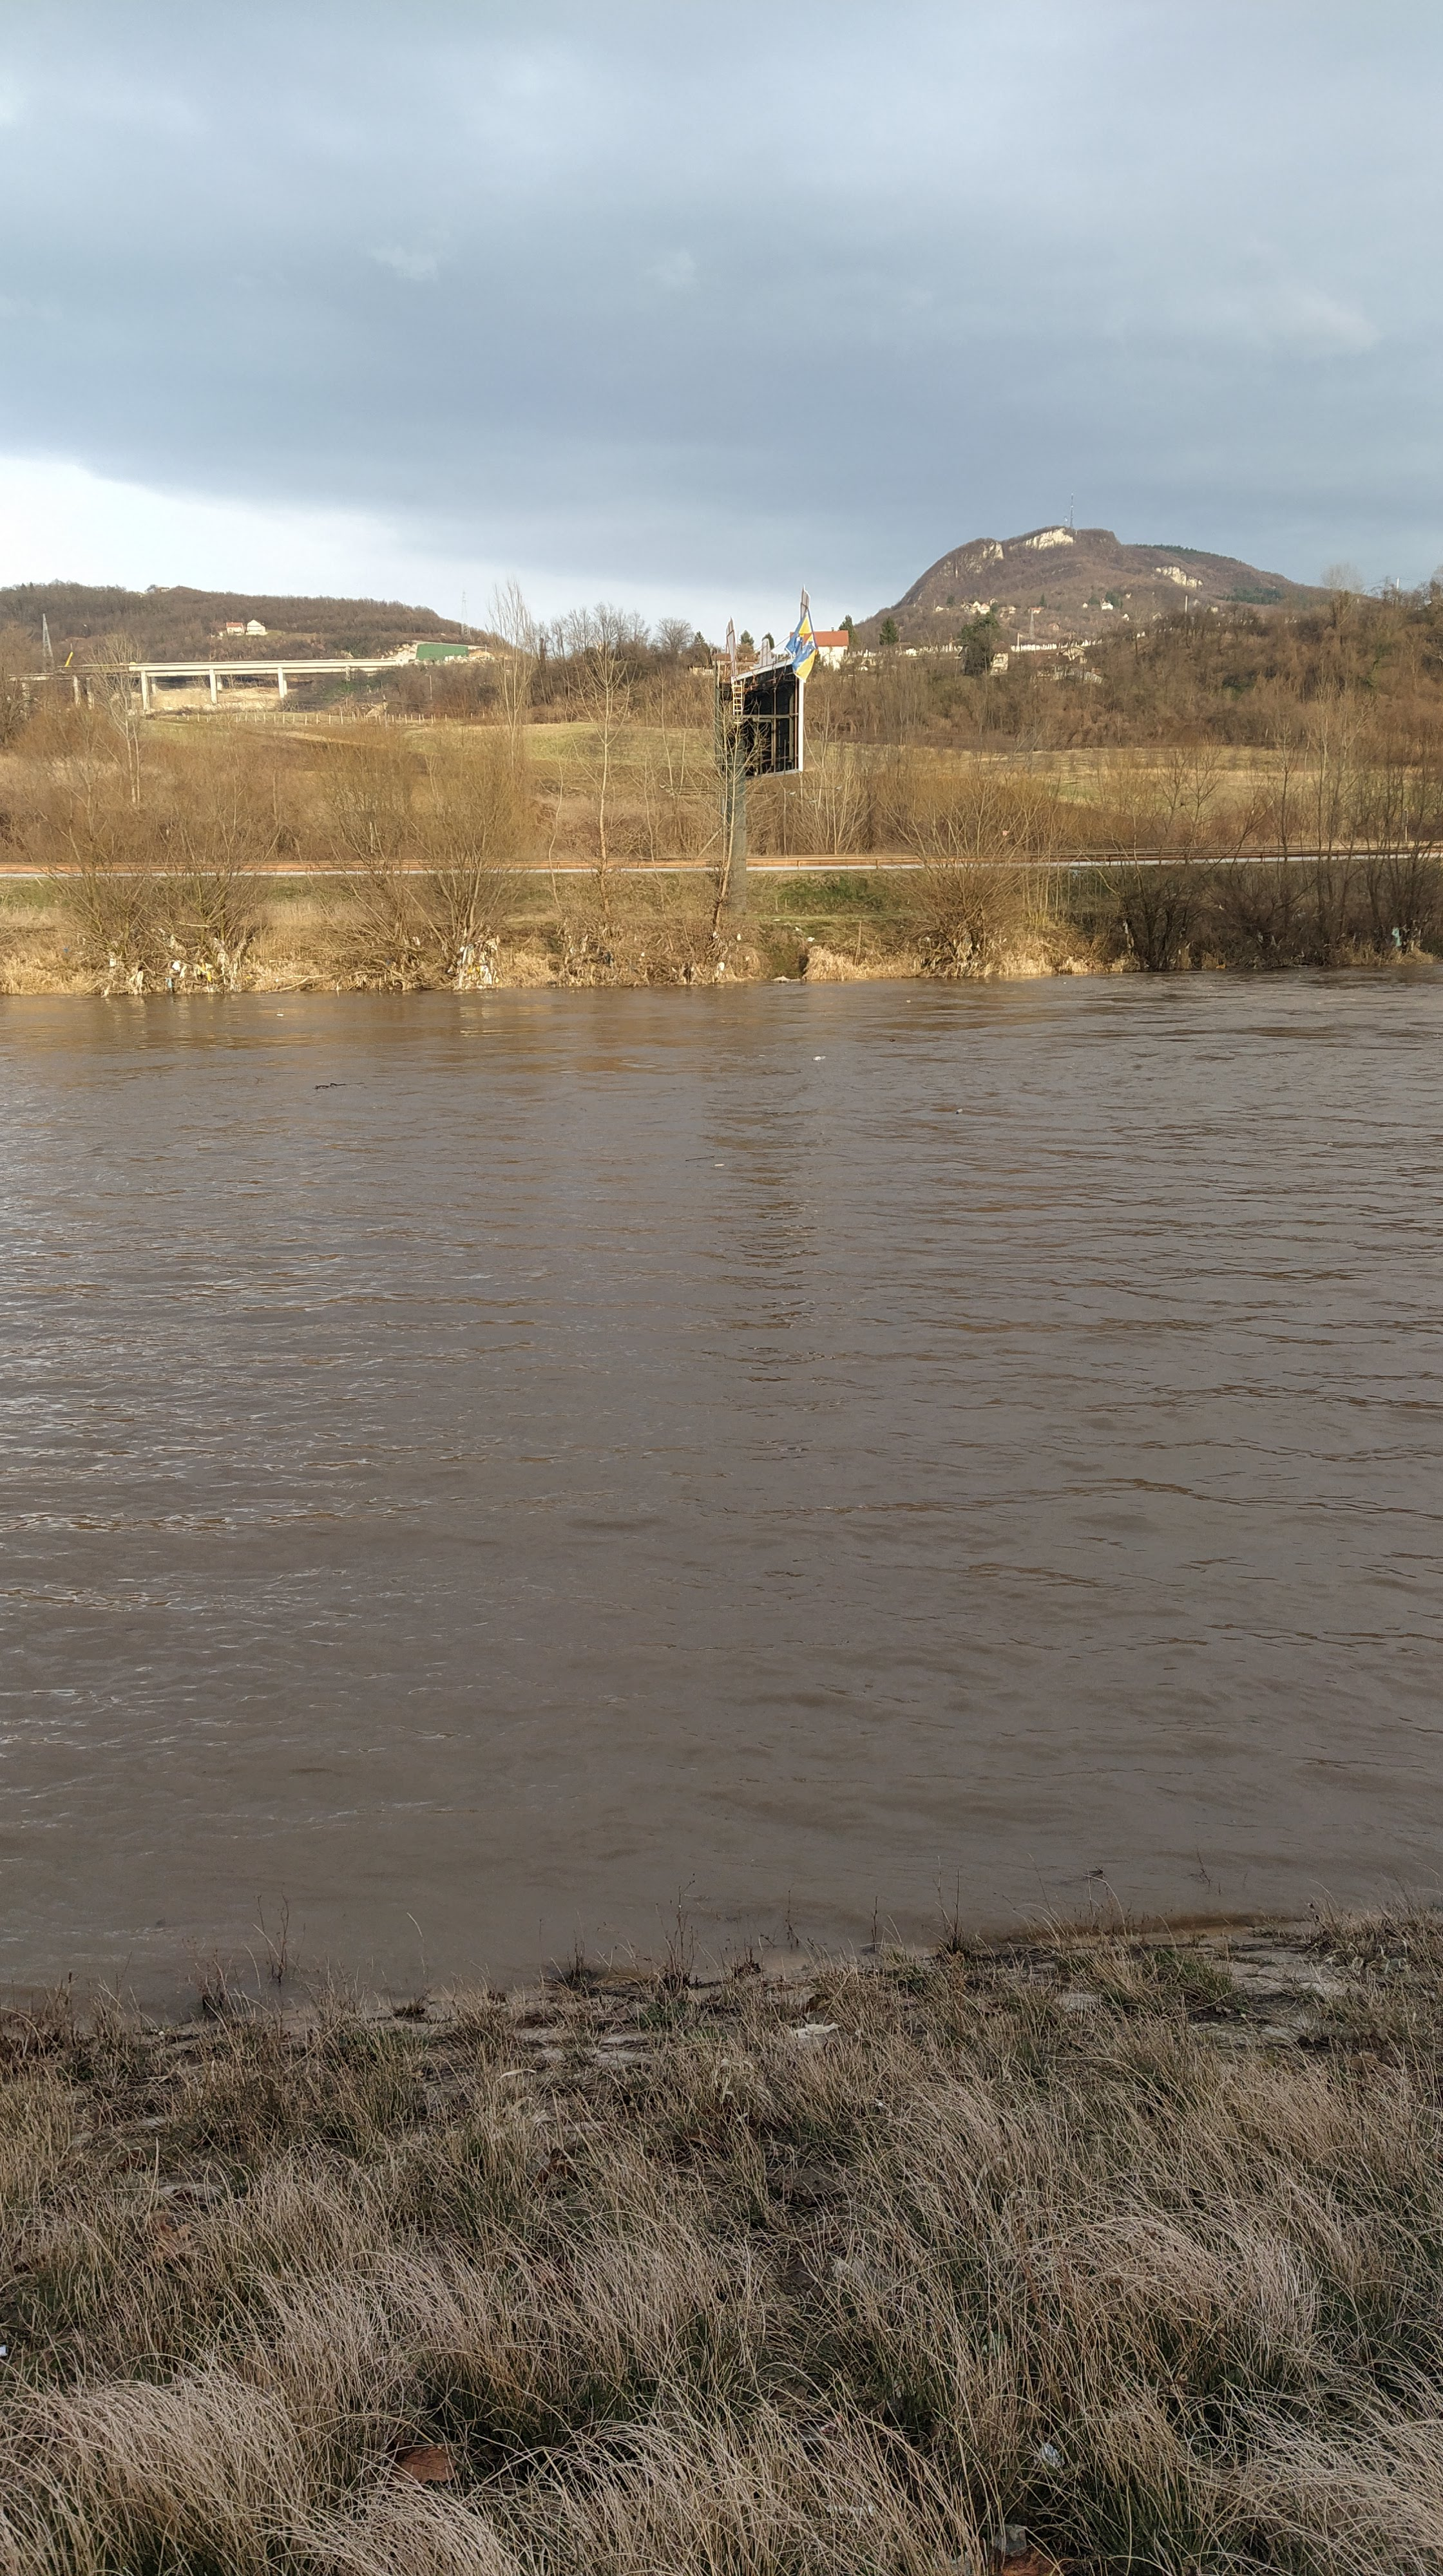Plastic Bottle: (811, 1056, 825, 1060), (956, 1108, 963, 1113), (276, 1014, 283, 1016), (889, 1039, 894, 1040)
